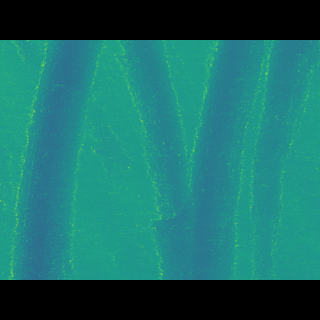Loch: (191, 70, 320, 251), (5, 69, 103, 249), (112, 70, 193, 249)
